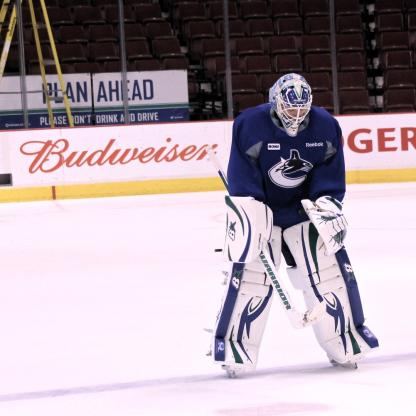Helmet: (274, 74, 321, 126)
